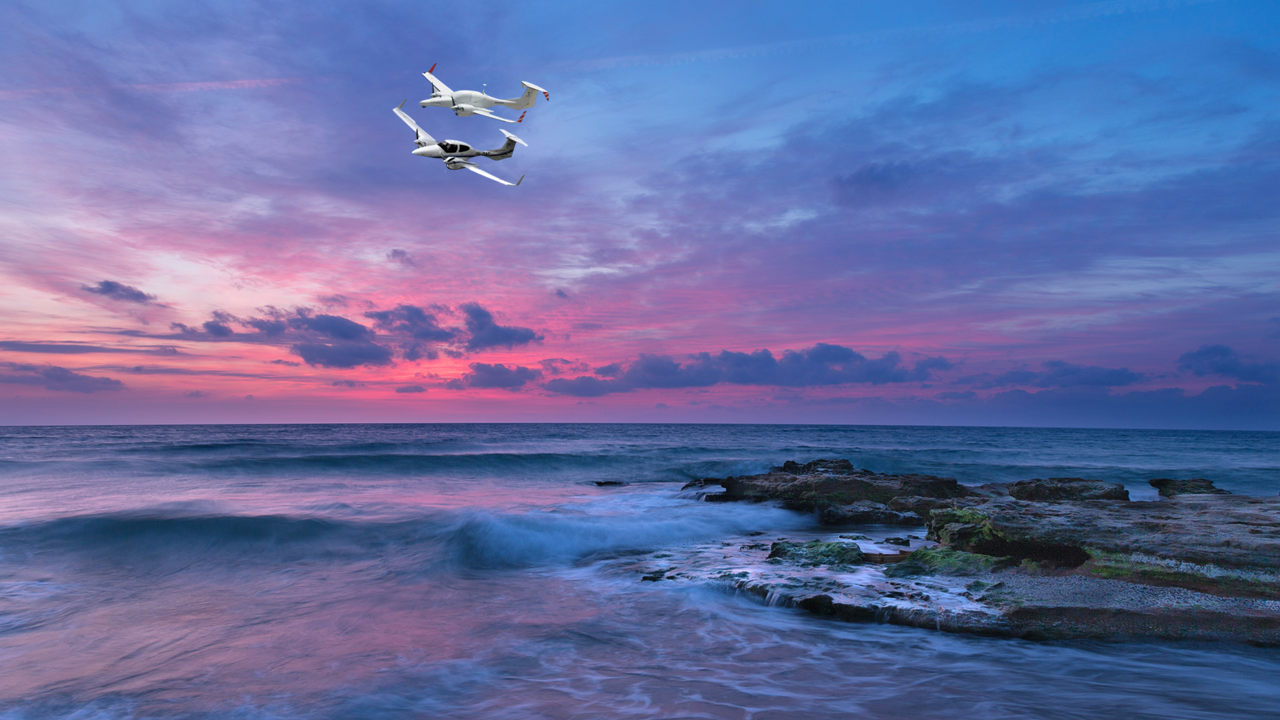military drone: (392, 98, 527, 186), (418, 63, 549, 123)
